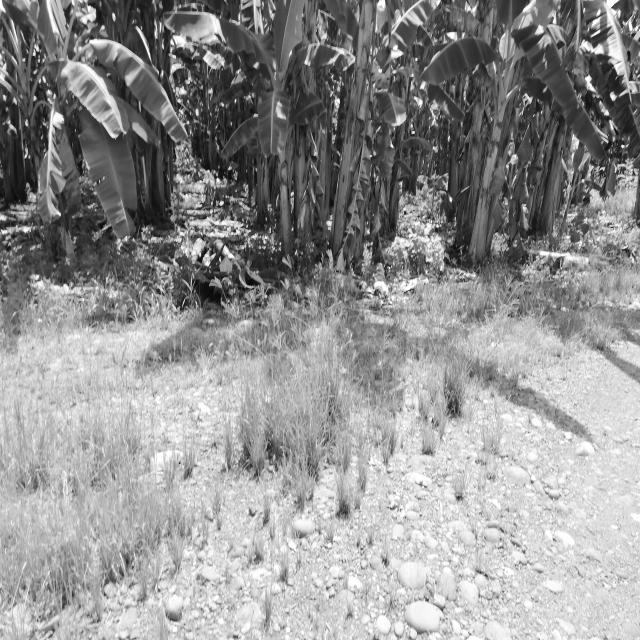Banana-plant: (325, 1, 375, 282), (472, 34, 517, 272)
